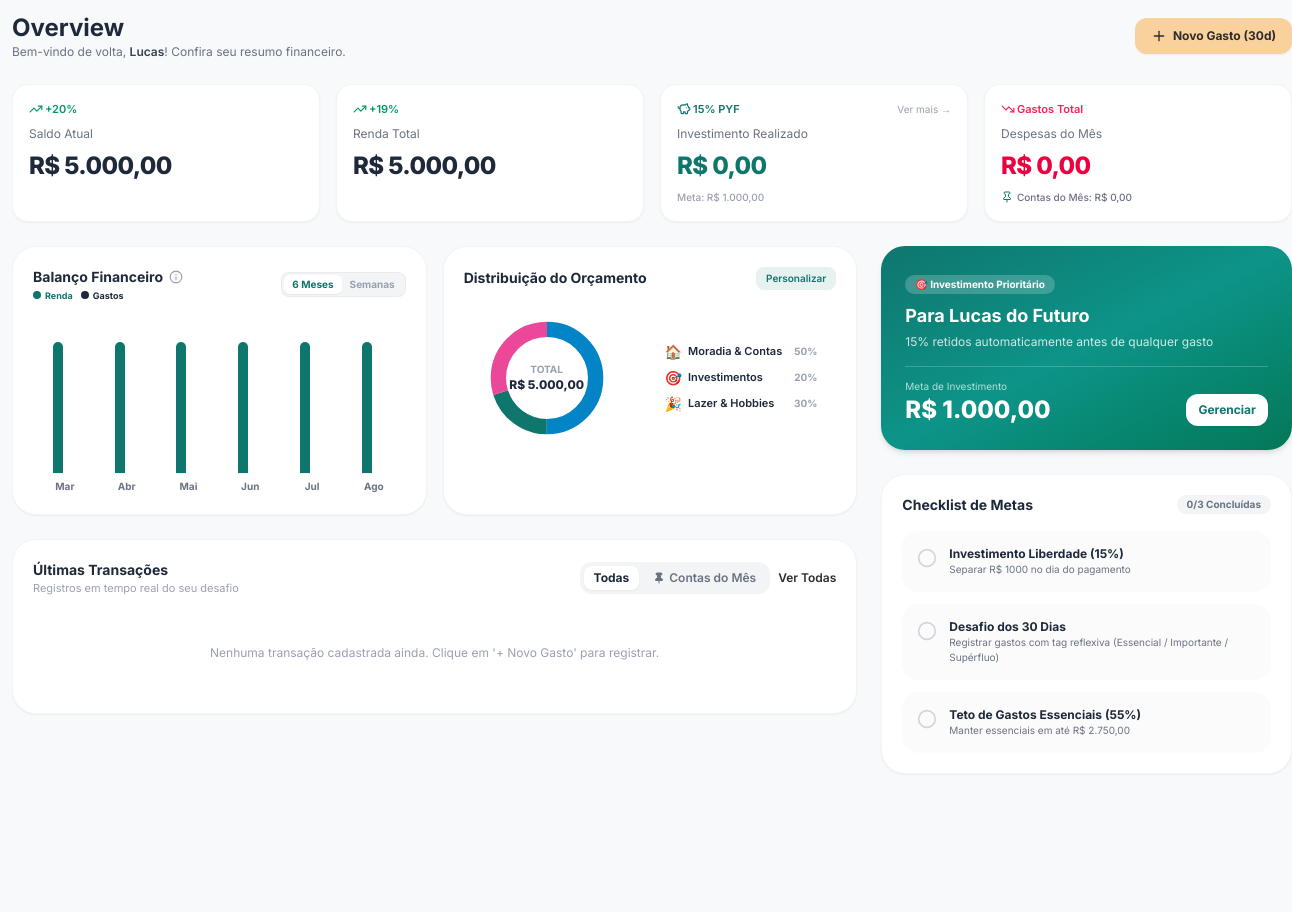
Test: DashboardPage component - Dynamic Categories & Emerald Theme › toggles the chart view mode between 6 Meses and Semanas
Check: the heading "Overview" is shown, box x1=12 y1=13 x2=124 y2=42
Click the button "Semanas" at (372, 284), box x1=342 y1=275 x2=403 y2=294
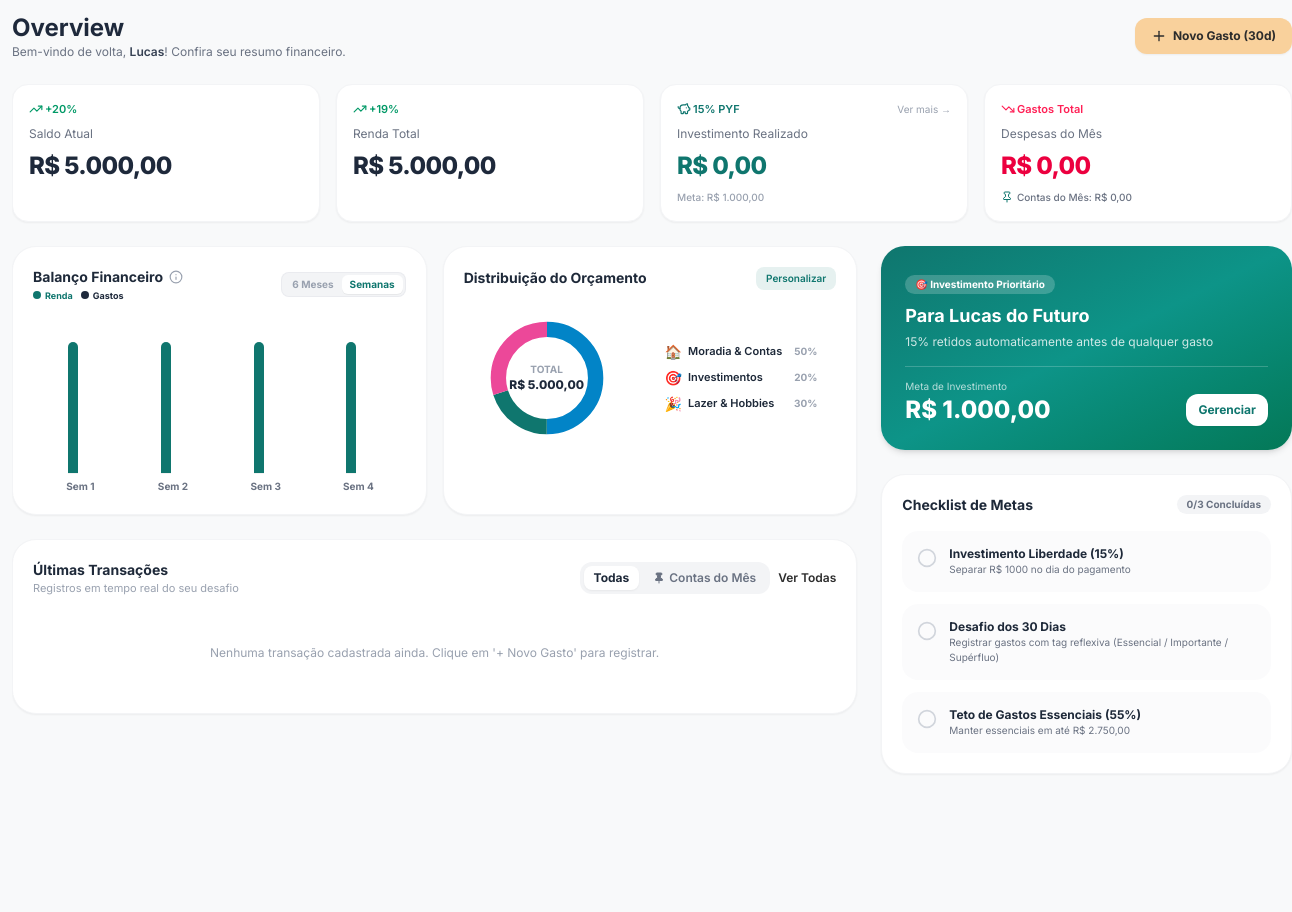
Check: the text "Sem 1" is shown, box x1=66 y1=479 x2=94 y2=494
